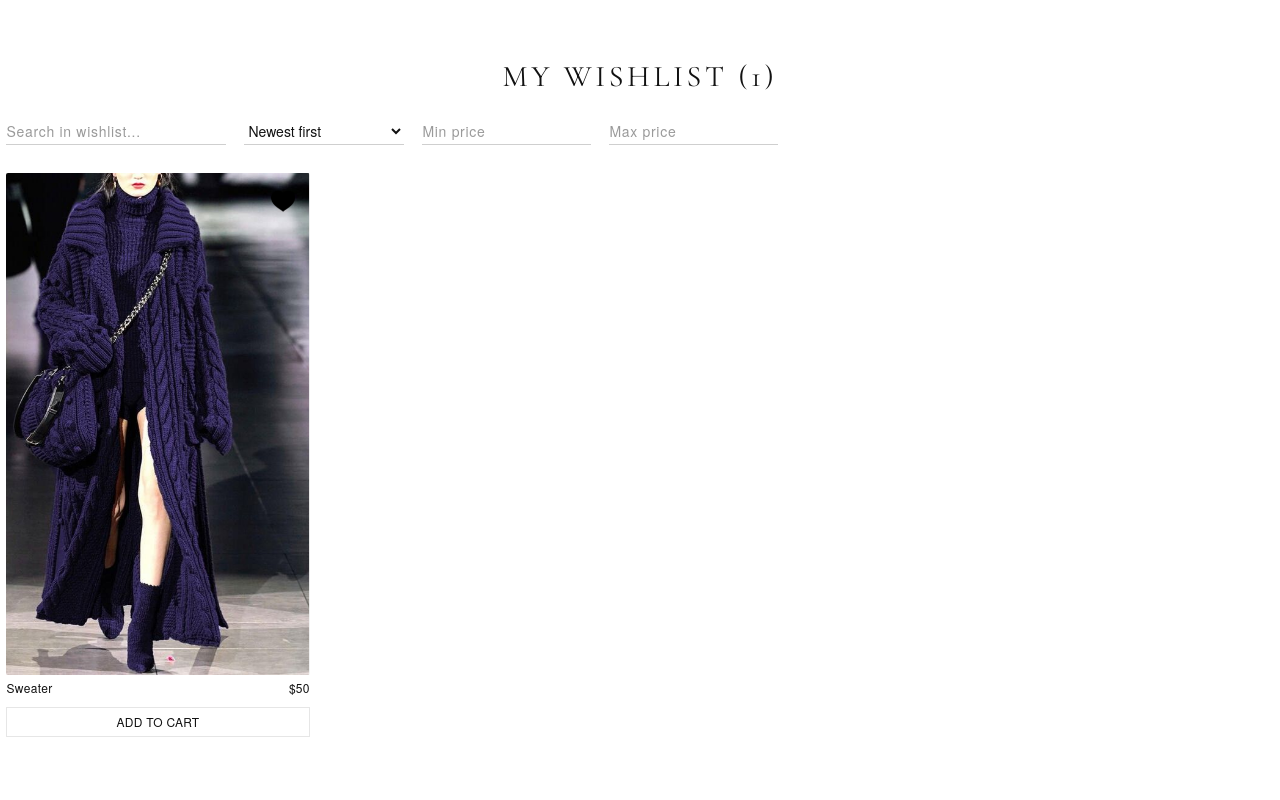
Test: WishList - add to cart modal › adds the selected size to the guest cart and closes the modal
This screenshot has width=1280, height=800.
Expected: the text "Sweater" is shown, [6, 681, 53, 695]
Click the button "ADD TO CART" at (158, 722), box [6, 707, 310, 737]
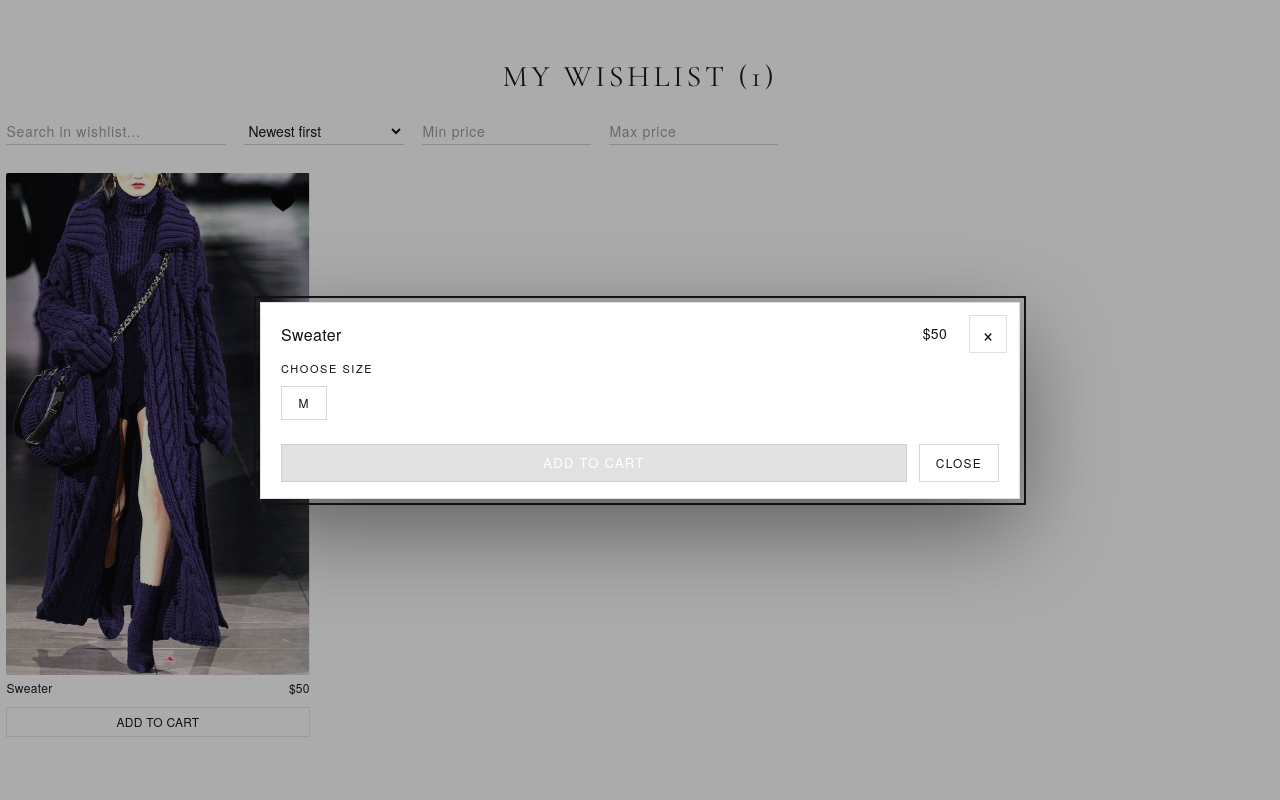
Click the button "M" at (304, 402), box [281, 386, 327, 420]
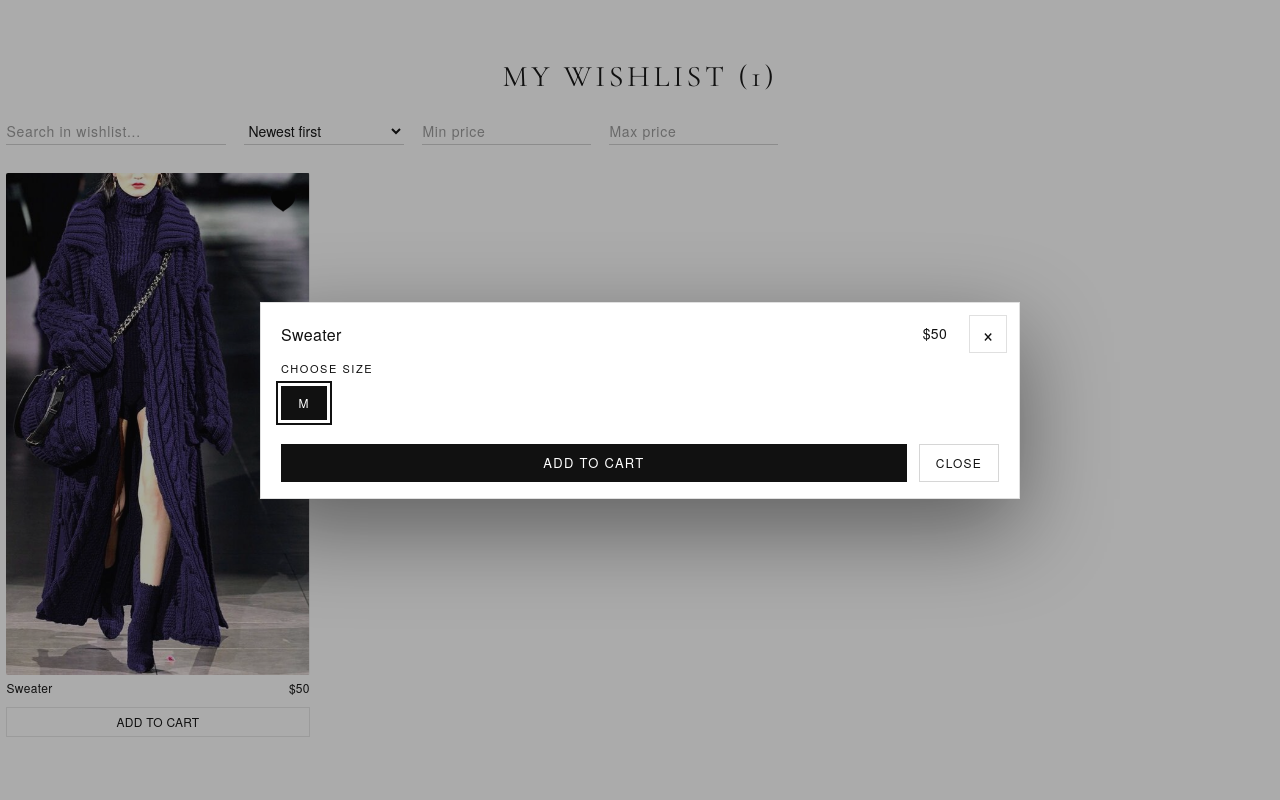
Click the button "ADD TO CART" at (594, 462), box [281, 444, 907, 482]
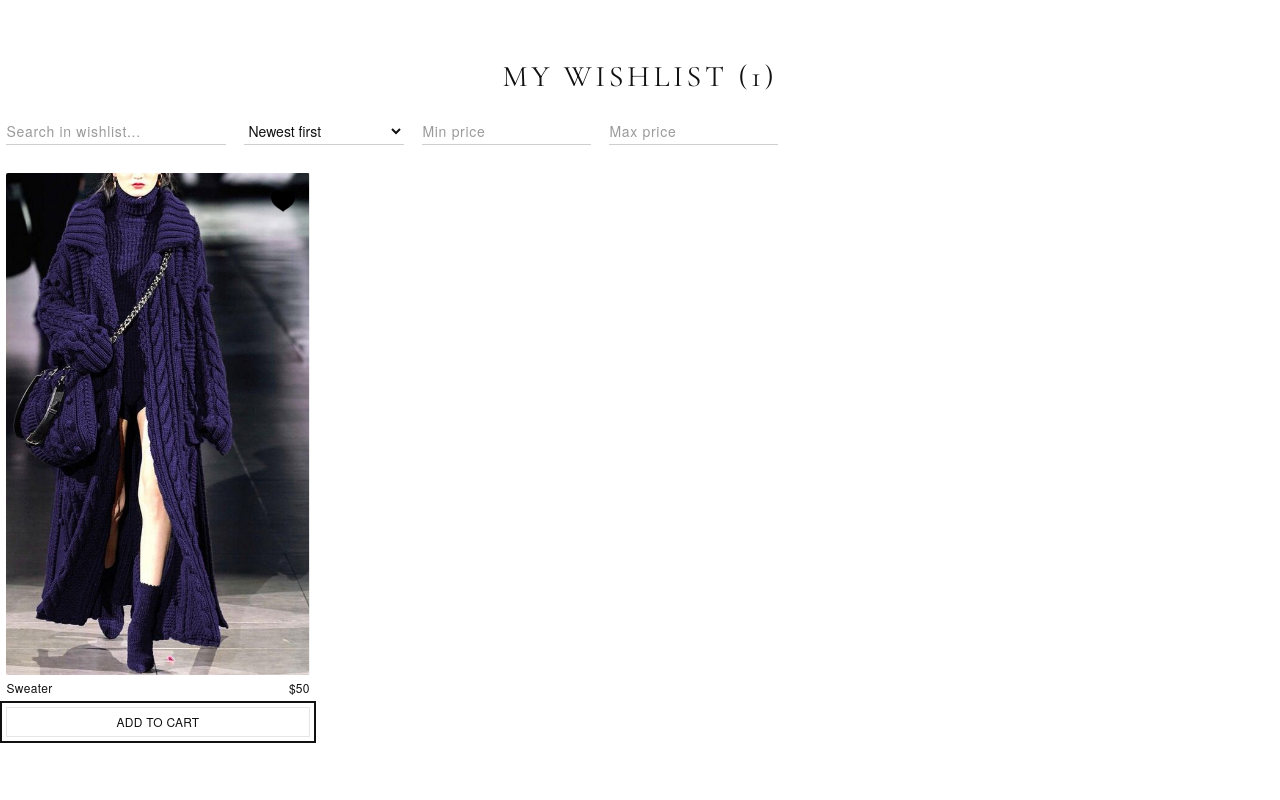
Now the dialog is gone
